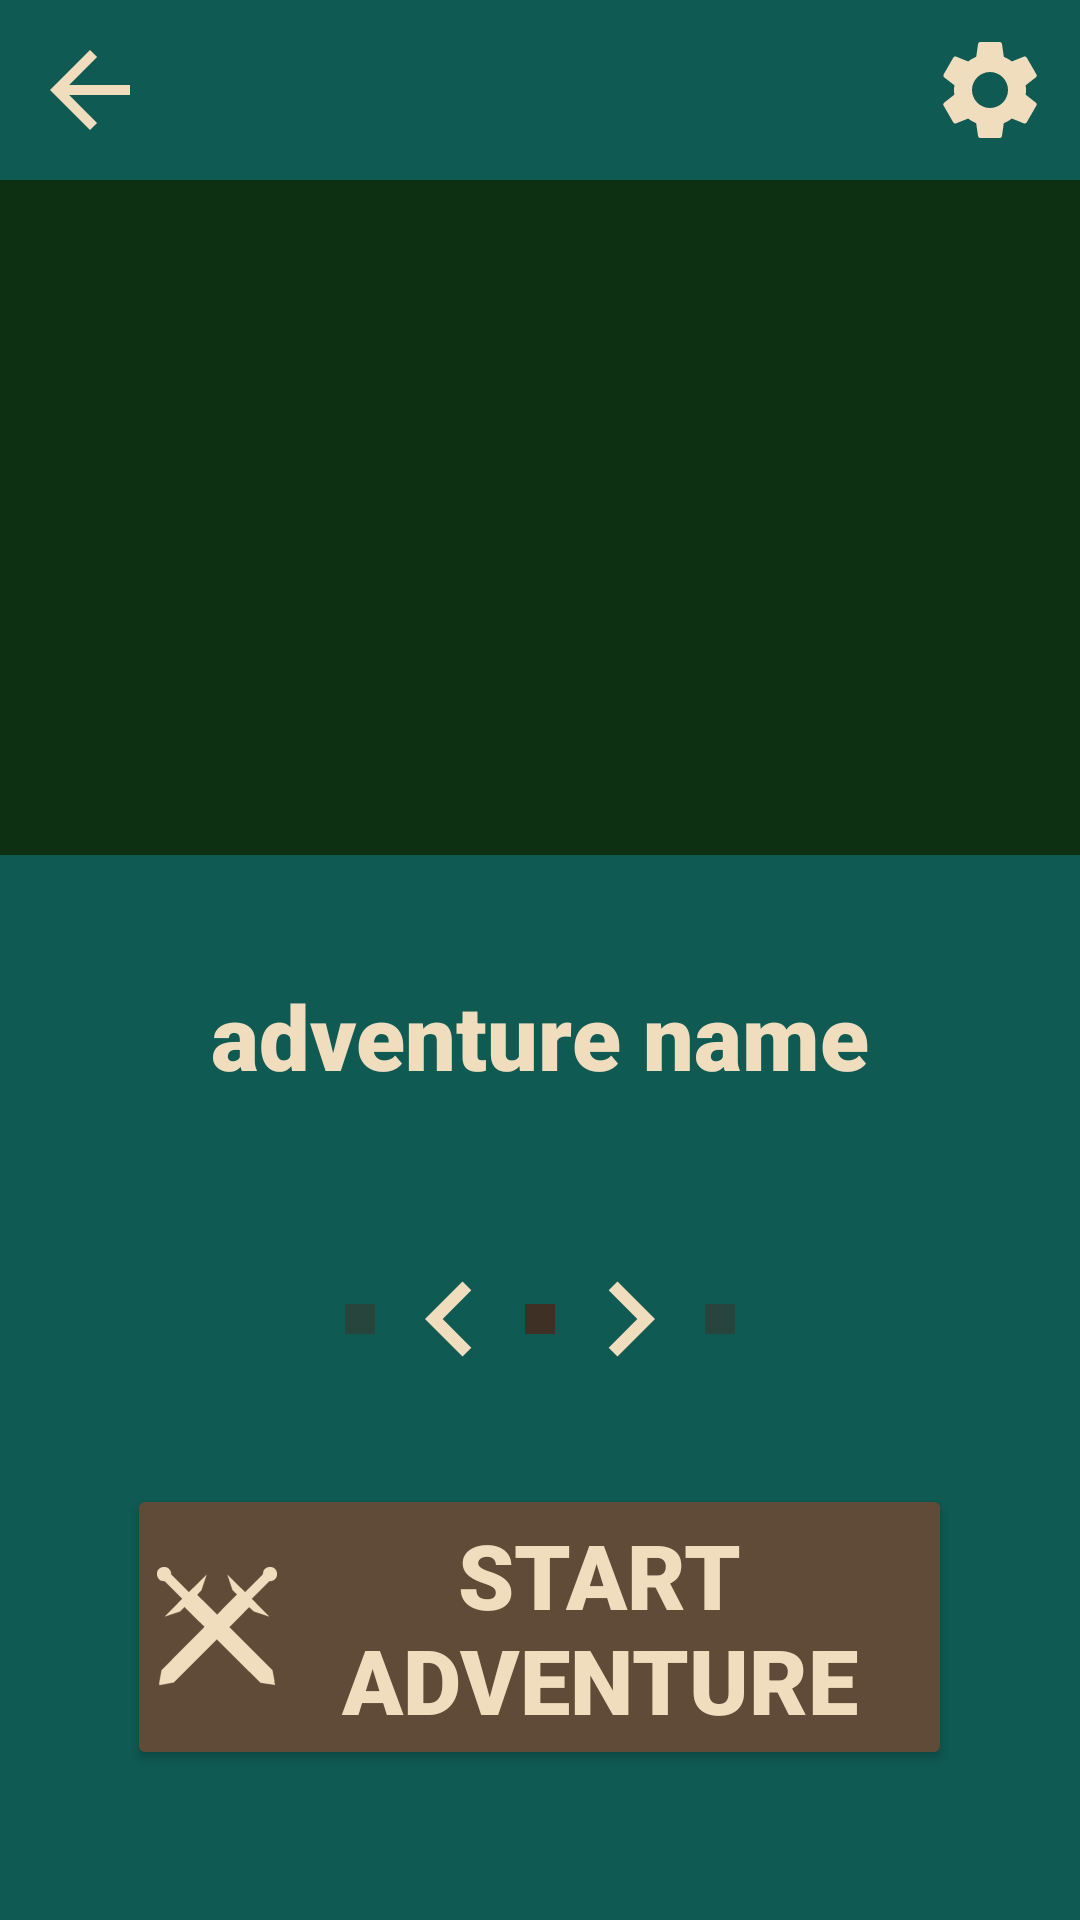

Icon bounding boxes for this 1080px×1920px phone screenshot, format (x1, y1, x2, y2):
arrow left: (425, 1281, 471, 1357)
arrow right: (609, 1281, 655, 1357)
back: (50, 50, 130, 130)
settings: (943, 42, 1037, 138)
